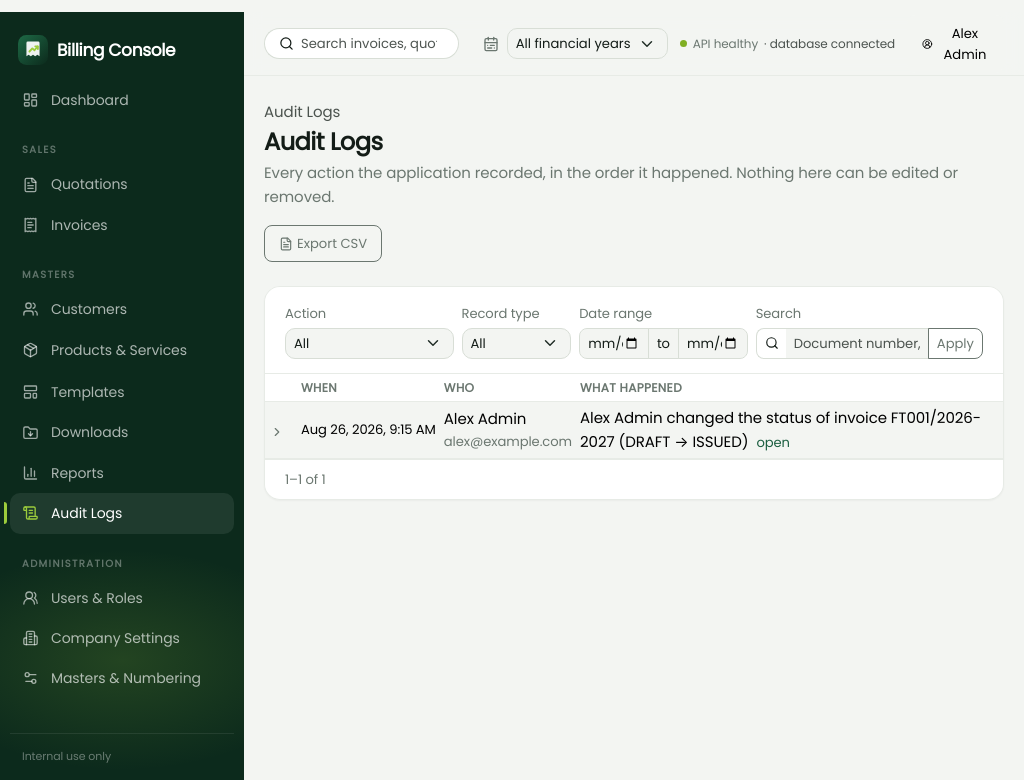
Test: the audit log viewer › opens one entry to show what actually changed
expect the text "changed the status of invoice" is shown: met, box [580,407,981,452]
Step 1. Click the button named "Show the detail" → (277, 431), box [269,419,285,442]
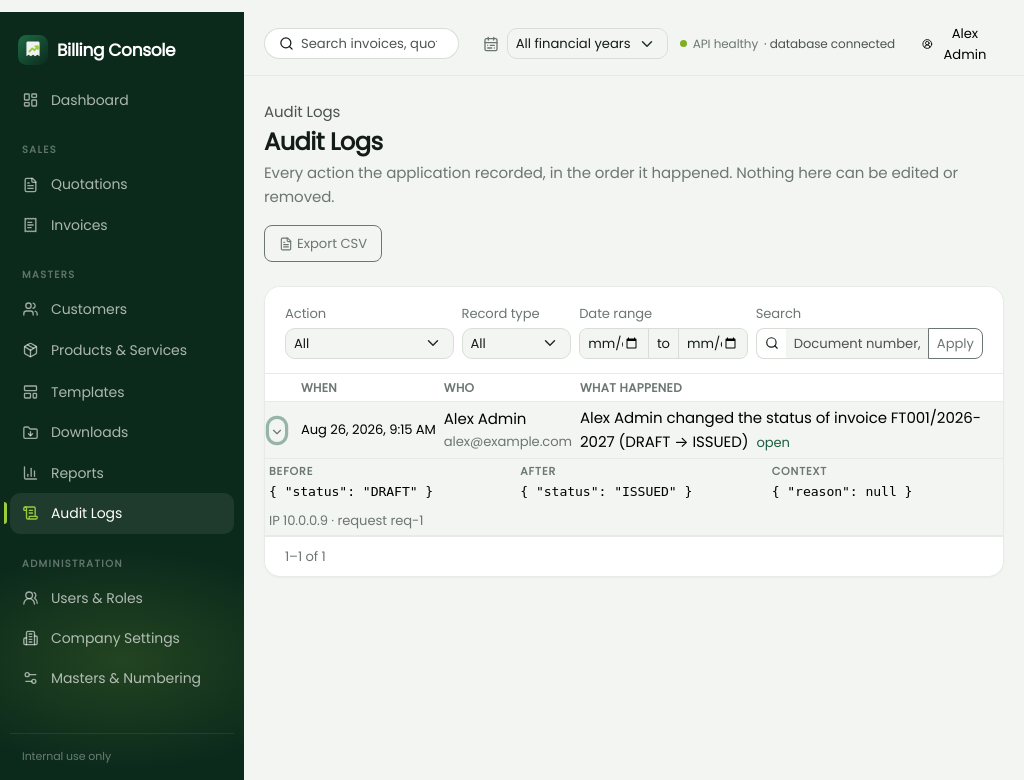
expect the text "Before" is shown: met, box [269,463,313,479]
expect the text "After" is shown: met, box [520,463,556,479]
expect the text "{ \"status\": \"DRAFT\" }" is shown: met, box [269,484,433,499]
